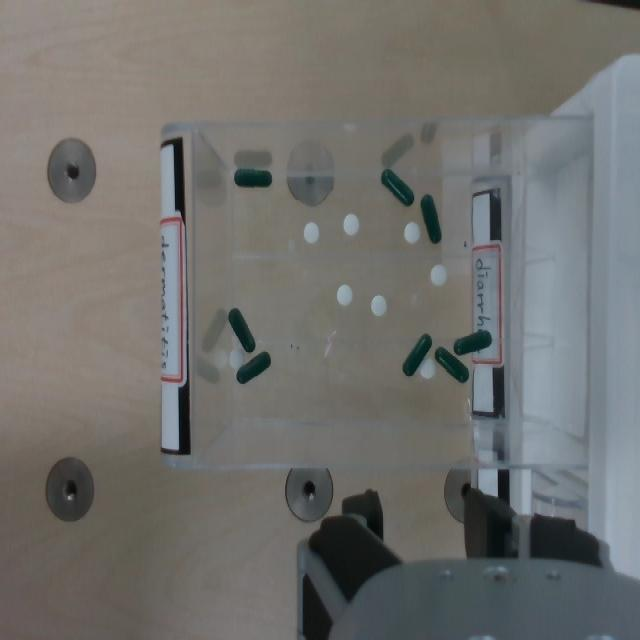ganakan_tab: (370, 293, 388, 318), (403, 220, 421, 245), (336, 282, 354, 307), (343, 213, 360, 236), (430, 264, 447, 287), (419, 356, 435, 379), (229, 348, 245, 370), (343, 213, 359, 235), (404, 221, 420, 243), (228, 348, 244, 369), (336, 284, 352, 305), (430, 264, 446, 285), (304, 221, 319, 243), (304, 222, 319, 243), (420, 358, 435, 379), (371, 295, 386, 316)
monodoxy_cap: (382, 167, 416, 207), (402, 331, 432, 376), (435, 345, 470, 383), (228, 307, 256, 354), (402, 333, 432, 376), (236, 350, 272, 385), (228, 308, 255, 352), (435, 347, 468, 383), (381, 168, 413, 205), (420, 192, 443, 243), (236, 351, 270, 383), (454, 328, 492, 356), (420, 195, 441, 243), (453, 329, 491, 355), (235, 169, 274, 189), (234, 168, 271, 187)
